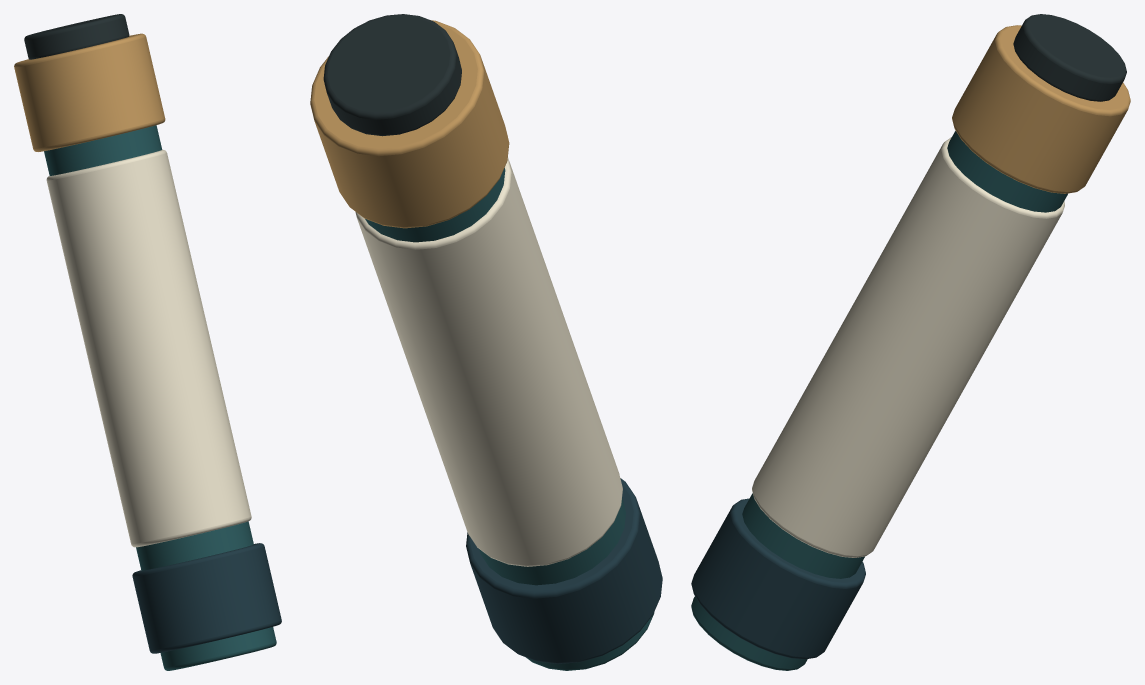
The model's file is SM_Mk2_GuardBarrel_L.fbx.
3 views of the same model, side by side, from view 1: azimuth 30°, elevation 25°; view 2: azimuth 150°, elevation 25°; view 3: azimuth 270°, elevation 25° (orthographic). The views are drawn at different scales.
Parts seen in each view (by area): view 1: SM_Mk2_GuardBarrel_L; view 2: SM_Mk2_GuardBarrel_L; view 3: SM_Mk2_GuardBarrel_L.
Boxes of the visible parts, x1,y1,x2,y2 form: SM_Mk2_GuardBarrel_L: (14, 14, 281, 670); SM_Mk2_GuardBarrel_L: (310, 14, 662, 670); SM_Mk2_GuardBarrel_L: (691, 14, 1130, 670).
Bounding box in the file's own units: 6.8 × 19.68 × 31.42.
